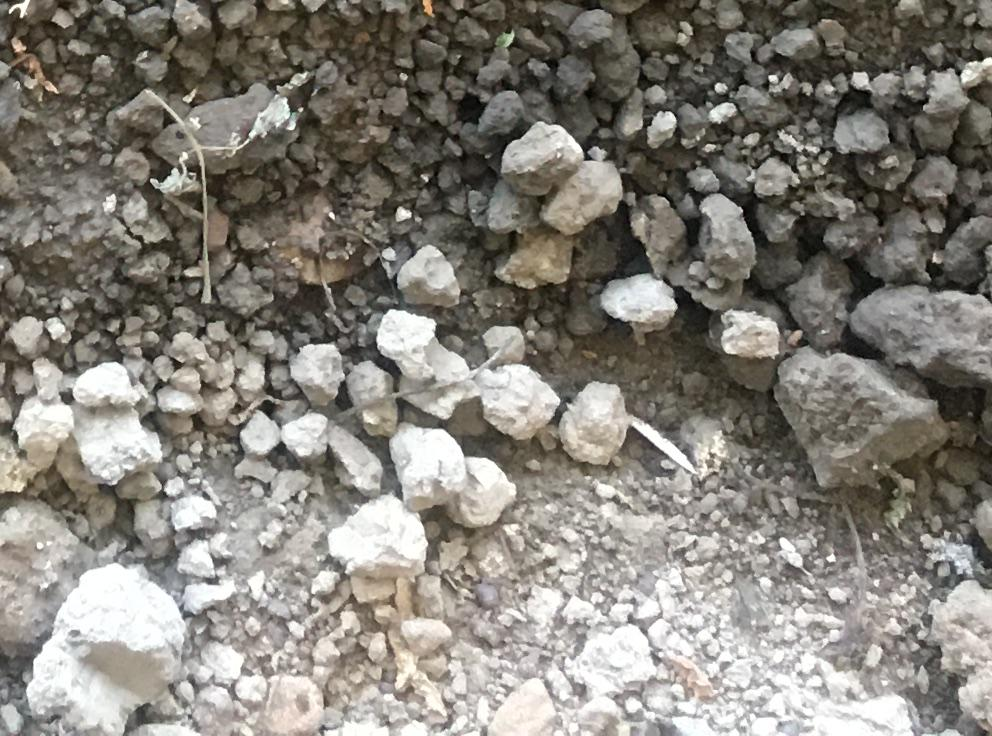block: (23, 567, 191, 736), (774, 337, 948, 487), (849, 274, 992, 384), (328, 490, 427, 584)
